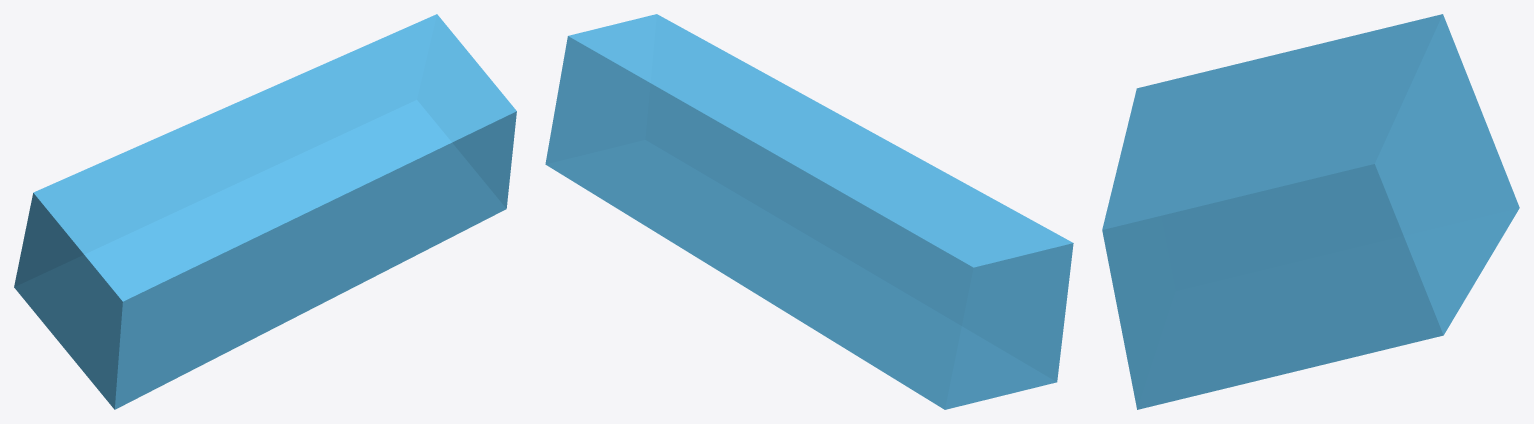
Rendered from Event_420107950_HErechit_7.fbx.
The picture shows the model from 3 angles, left to right: view 1: azimuth 30°, elevation 25°; view 2: azimuth 150°, elevation 25°; view 3: azimuth 270°, elevation 25°; orthographic projection. The views are drawn at different scales.
Parts seen in each view (by area): view 1: Model; view 2: Model; view 3: Model.
Boxes of the visible parts, box(x1,y1,x2,y2) form: Model: box(14, 14, 516, 409); Model: box(545, 14, 1073, 409); Model: box(1102, 14, 1519, 409).
Bounding box in the file's own units: 1.25 × 0.813 × 0.692.
